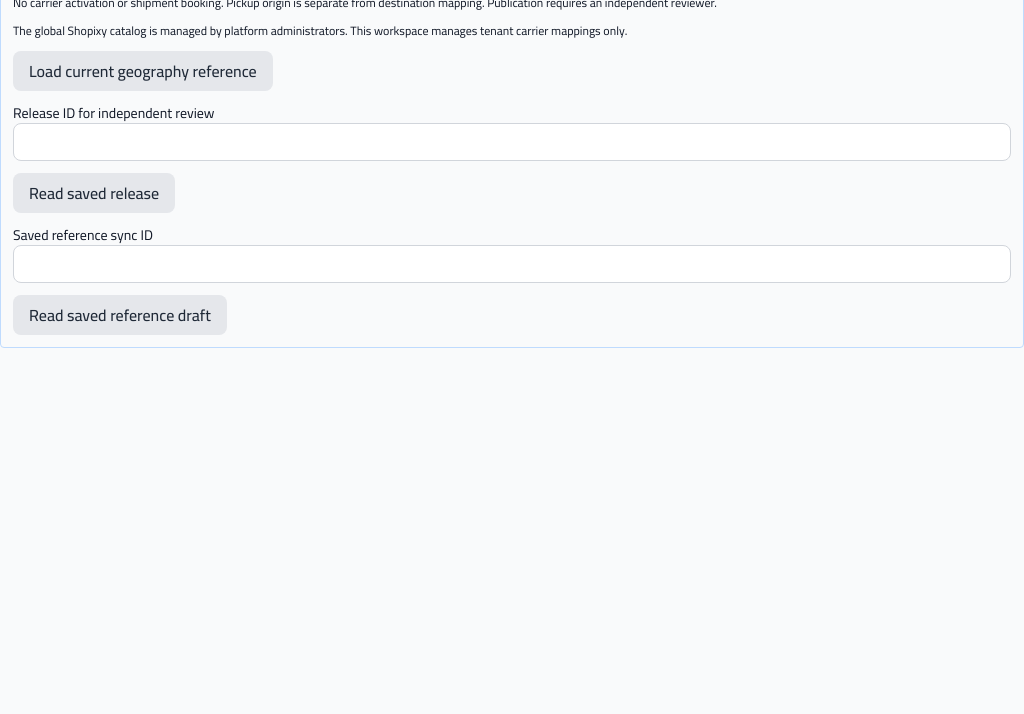
Test case: requires explicit sync and canonical review, then reads persisted identities without booking or activation
Click the button "Load current geography reference".
click(143, 71)  # box 13,51 -> 273,91
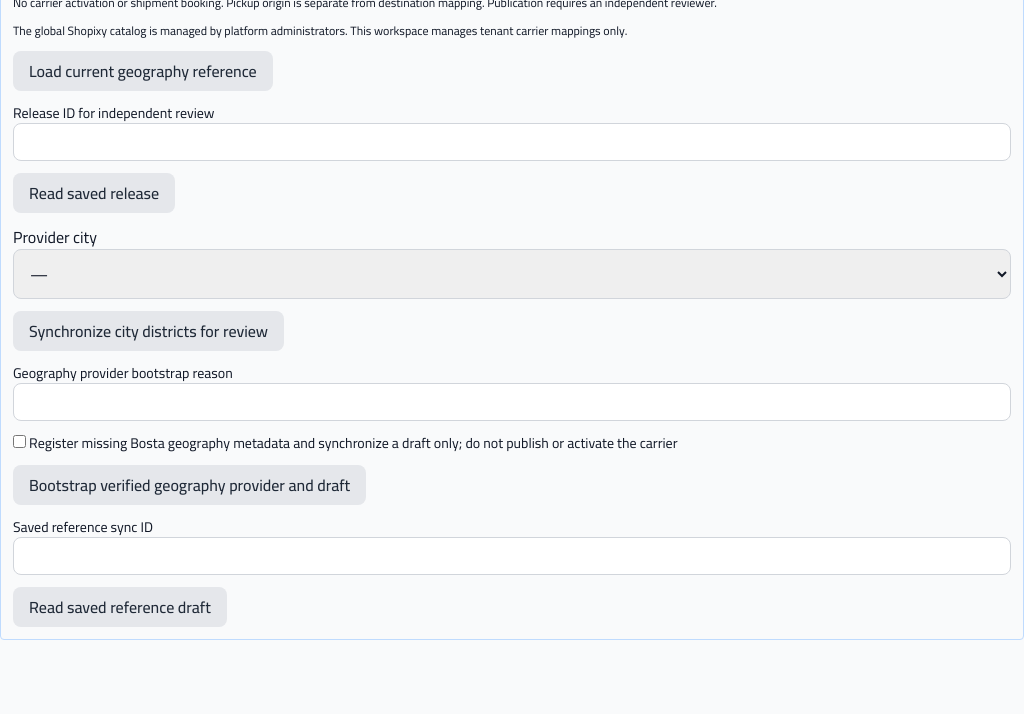
Select "Reference city — reference-city" in the dropdown labelled "Provider city" at (512, 274), box 13,249 -> 1011,299
Click the button "Synchronize city districts for review".
click(148, 331)  # box 13,311 -> 284,351
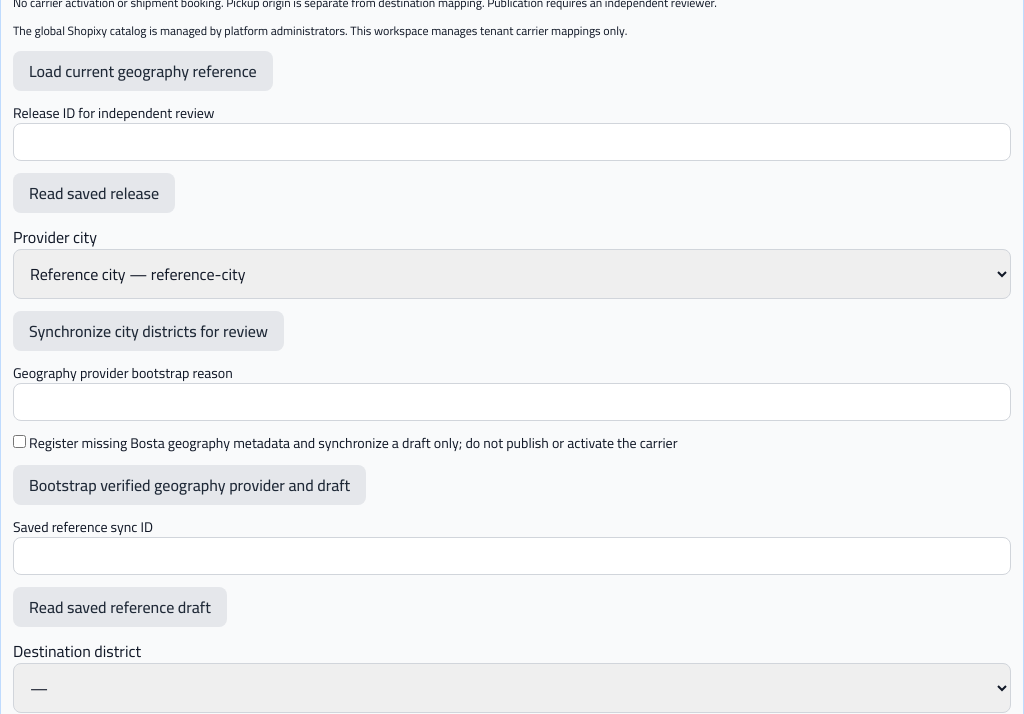
Select "Reference district — reference-district" in the dropdown labelled "Destination district" at (512, 688), box 13,663 -> 1011,713
(page scrolled)
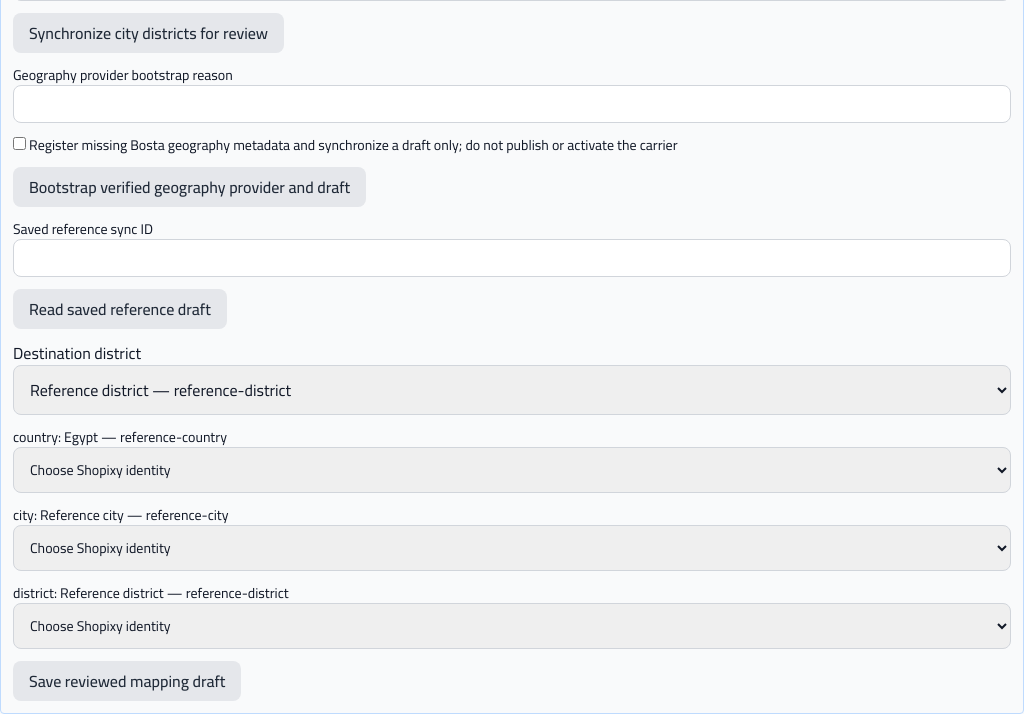
Expected: the button "Save reviewed mapping draft" is disabled, 13,661 -> 242,701
Select "EG — canonical-country" in the dropdown labelled "country: Egypt — reference-country" at (512, 470), box 13,447 -> 1011,493
Select "TEST-ONLY-CITY — canonical-city" in the dropdown labelled "city: Reference city — reference-city" at (512, 548), box 13,525 -> 1011,571
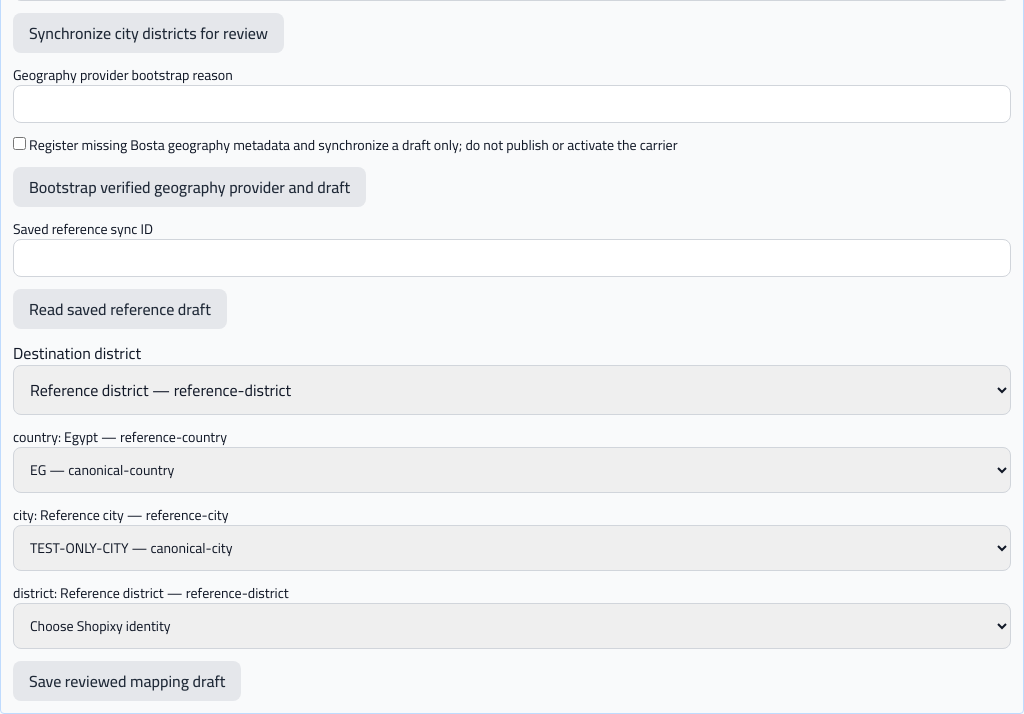
Select "TEST-ONLY-DISTRICT — canonical-district" in the dropdown labelled "district: Reference district — reference-district" at (512, 626), box 13,603 -> 1011,649
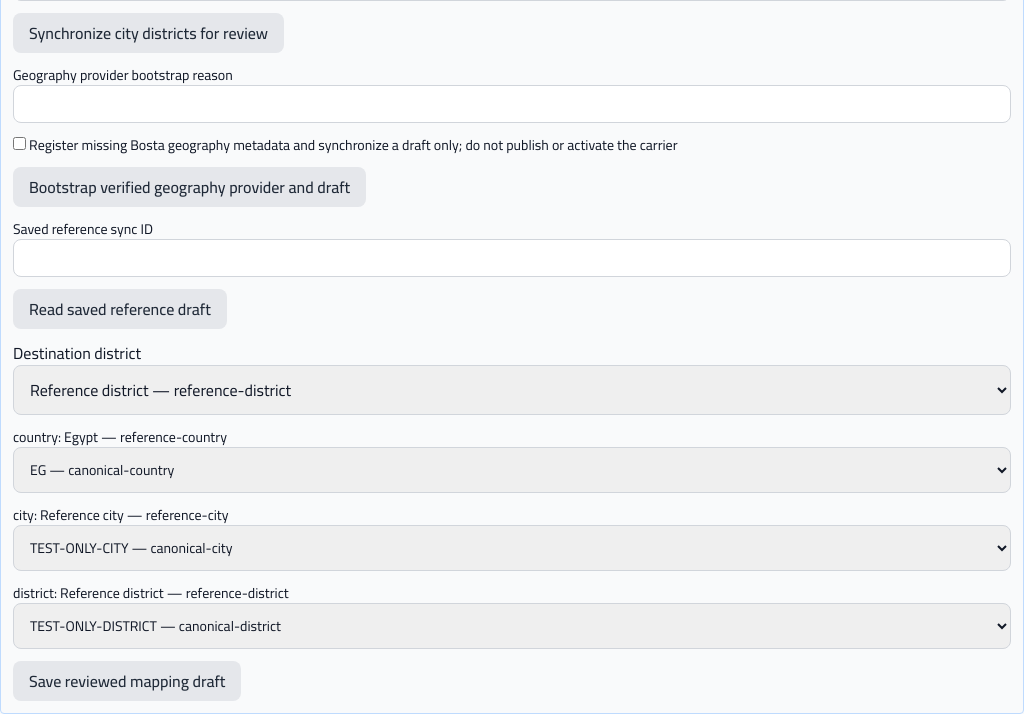
Click the button "Save reviewed mapping draft".
click(127, 681)  # box 13,661 -> 242,701
(page scrolled)
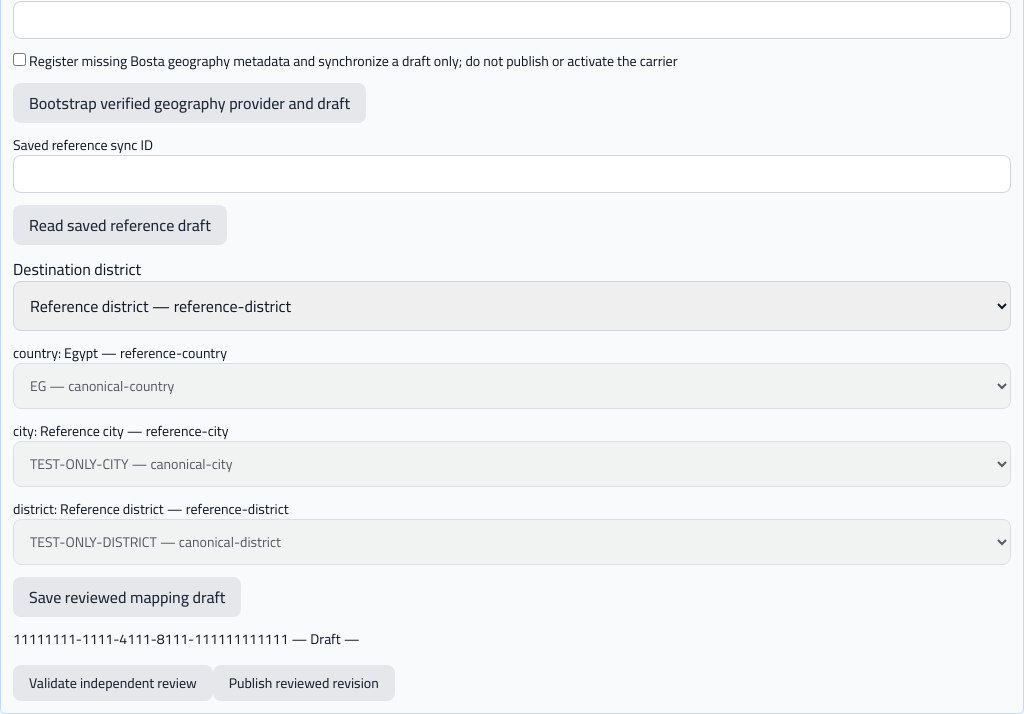
Expected: the text "11111111-1111-4111-8111-111111111111 — Draft —" is shown, 13,626 -> 360,652
